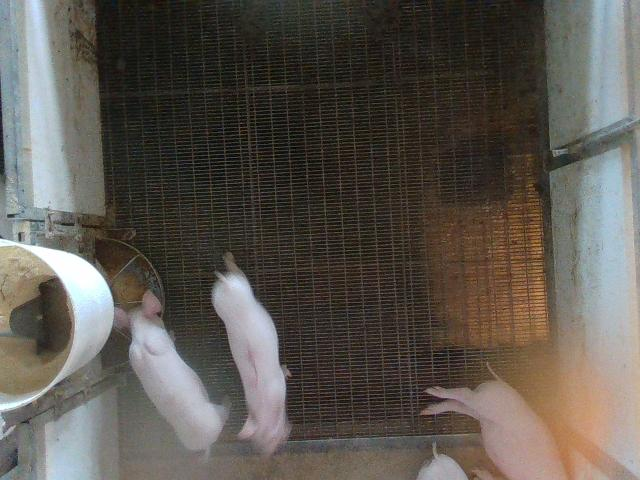pig-5: (212, 252, 291, 457)
